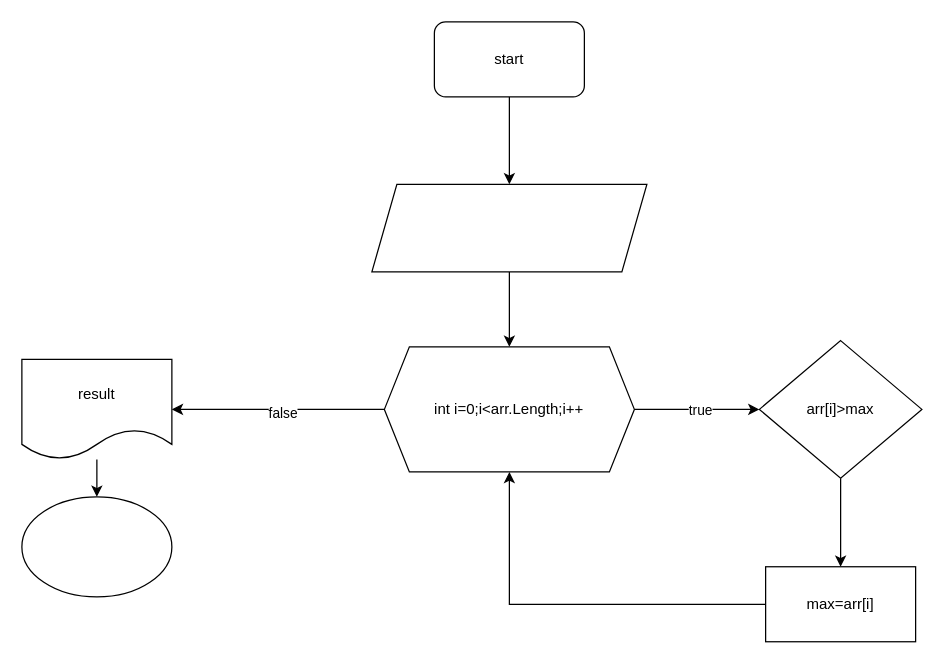
Some shapes in this 944 by 664 pixel diagram are drawn without their labels. Each missing label, with the centre of its shape:
end: the point at 96,546
int[]arr; int max=arr[0];: the point at 509,227
